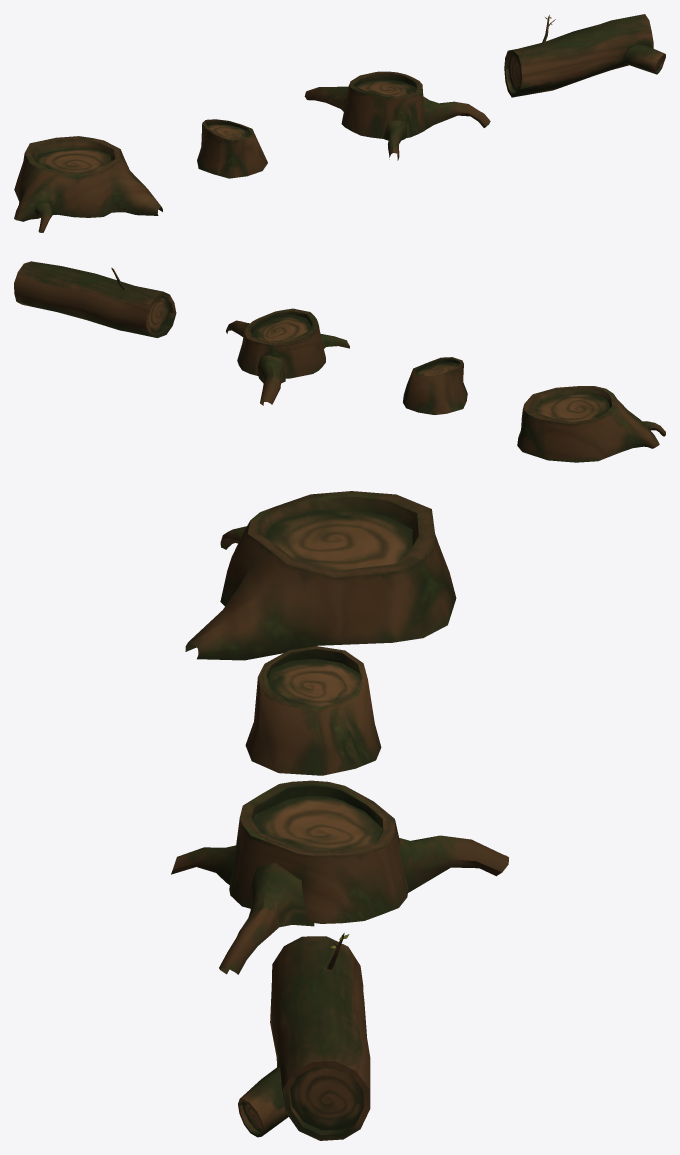
Rendered from logs.fbx.
3 views of the same model, one above another, from view 1: azimuth 30°, elevation 25°; view 2: azimuth 150°, elevation 25°; view 3: azimuth 270°, elevation 25° (orthographic). The views are drawn at different scales.
Visible parts, largest first — view 1: logs.004, logs.001, logs.002, logs.003; view 2: logs.004, logs.001, logs.002, logs.003; view 3: logs.004, logs.002, logs.001, logs.003.
Boxes of the visible parts, bbox=[...] form: logs.004: bbox=[14, 136, 162, 232]; logs.001: bbox=[504, 14, 665, 97]; logs.002: bbox=[304, 71, 490, 160]; logs.003: bbox=[197, 119, 267, 178]; logs.004: bbox=[517, 386, 665, 462]; logs.001: bbox=[14, 261, 176, 337]; logs.002: bbox=[226, 308, 349, 405]; logs.003: bbox=[403, 357, 467, 414]; logs.004: bbox=[185, 491, 456, 660]; logs.002: bbox=[171, 780, 508, 974]; logs.001: bbox=[238, 933, 370, 1140]; logs.003: bbox=[245, 646, 381, 775].
Bounding box in the file's own units: 1087 × 111 × 255.
